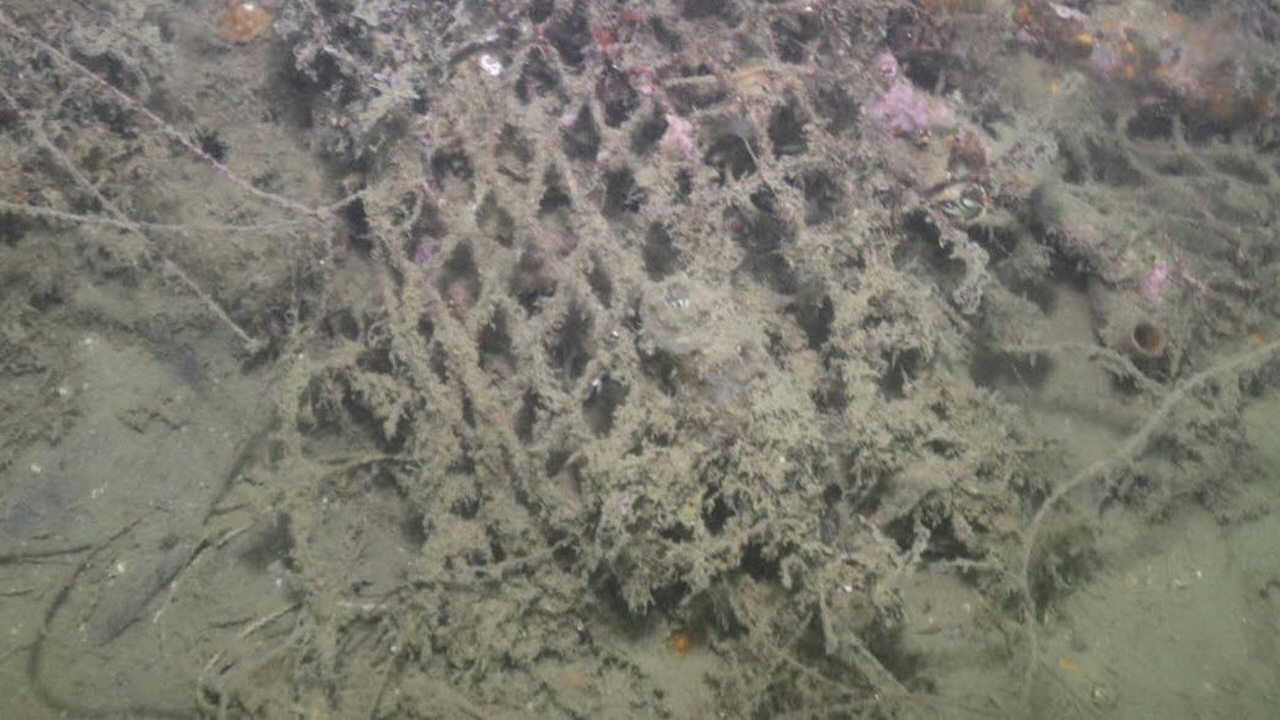fish net: (360, 0, 1280, 562)
